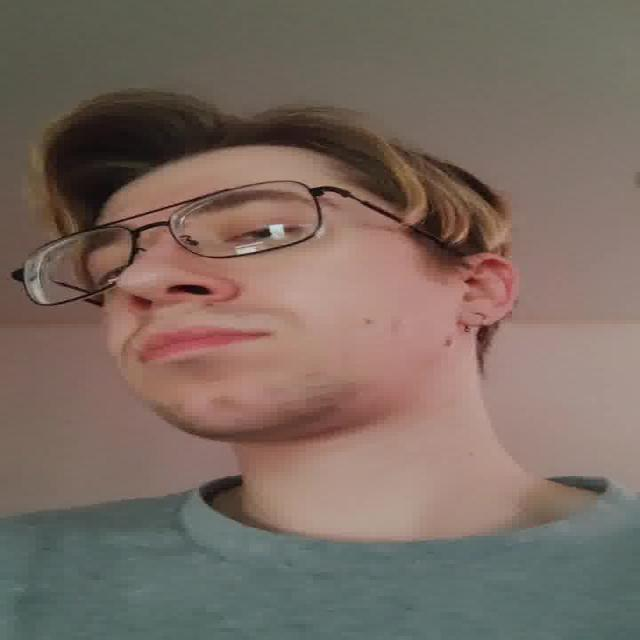earlobe: (457, 308, 505, 328)
eye: (222, 221, 304, 243), (92, 263, 124, 288)
nose: (130, 292, 234, 332)
wholeear: (457, 253, 520, 328)
